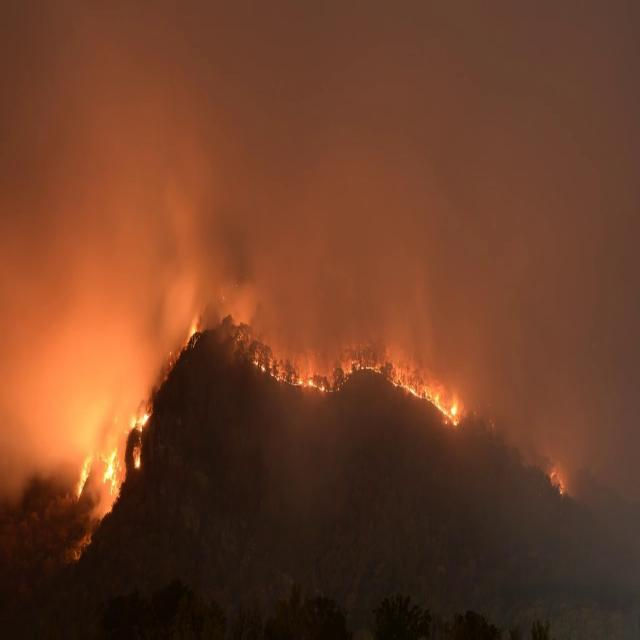Fire: (250, 358, 461, 428), (99, 408, 150, 500), (75, 450, 92, 500), (549, 470, 565, 496), (186, 326, 197, 348)
Smoke: (0, 1, 640, 601)
